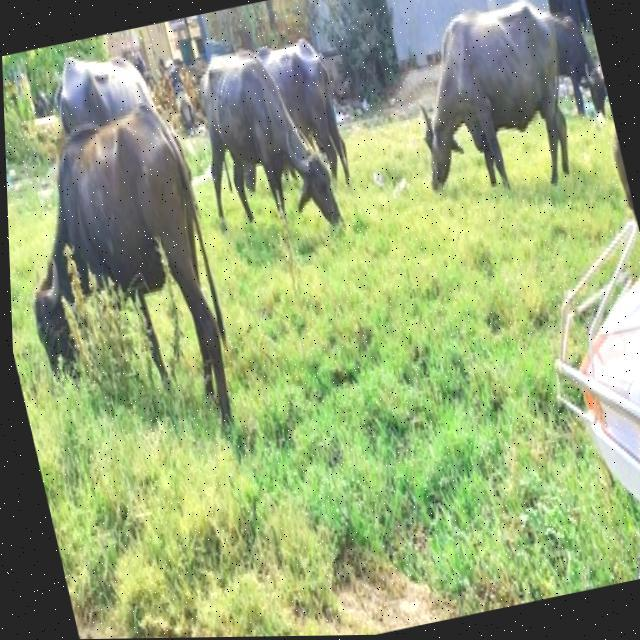Buffalo: (392, 0, 587, 213), (185, 42, 348, 254)
